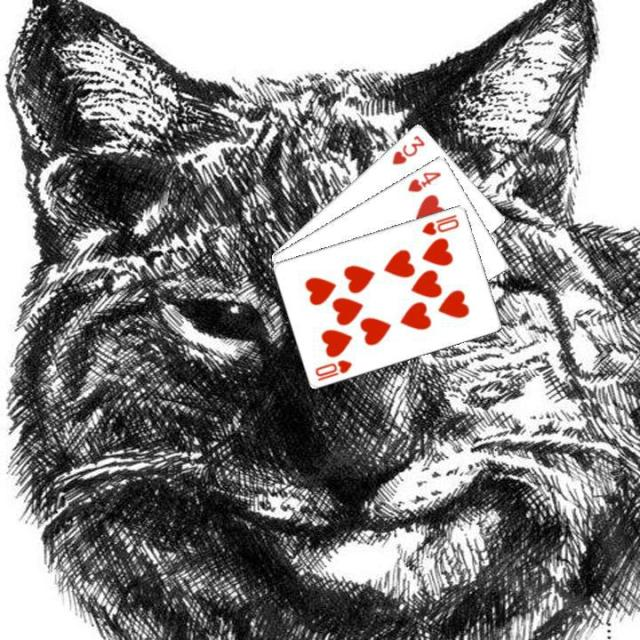10H: (311, 356, 354, 382), (418, 210, 460, 236)
3H: (388, 131, 426, 166)
4H: (403, 167, 442, 194)
